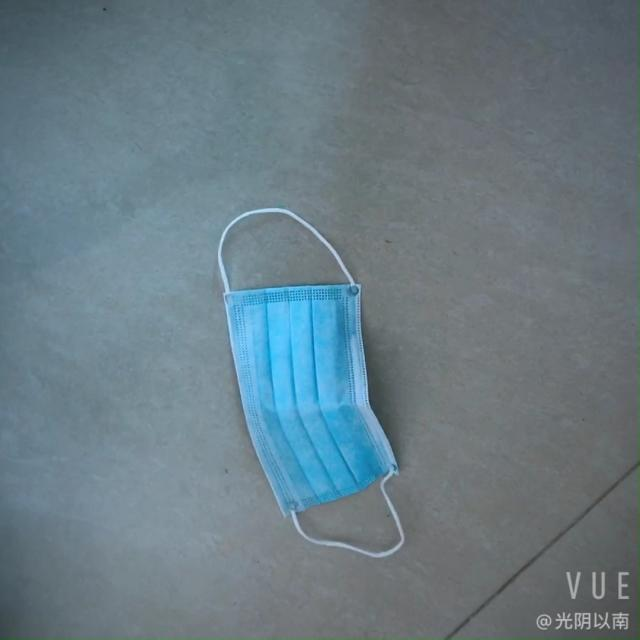face mask: (240, 210, 400, 558)
